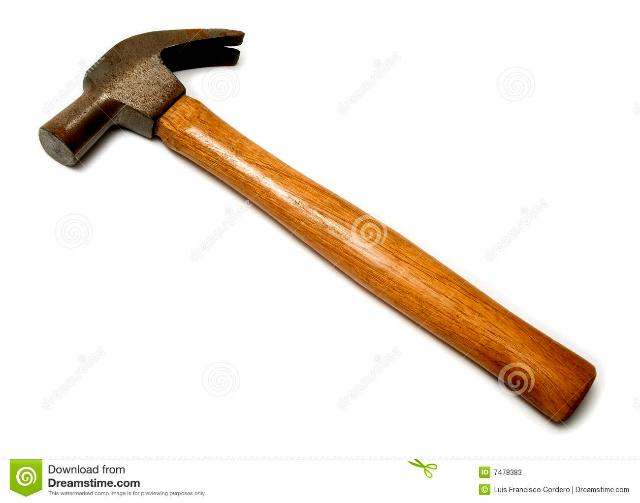hammer: (33, 22, 601, 434)
